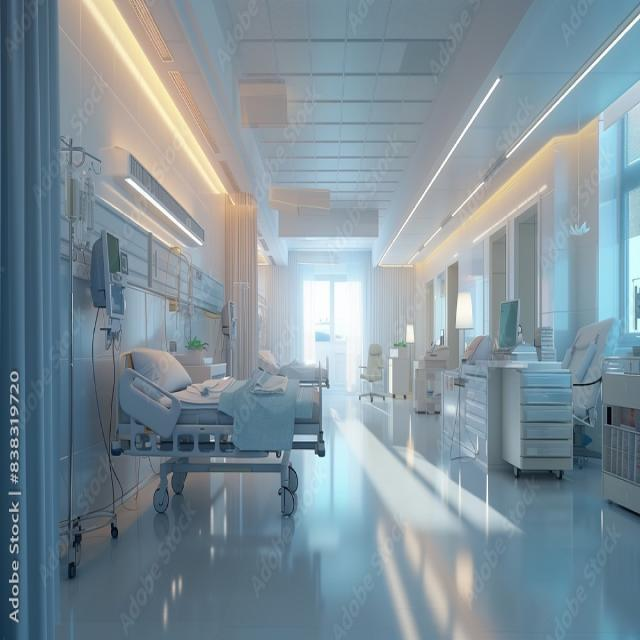Monitor: (80, 216, 130, 337)
bed: (112, 346, 327, 516)
